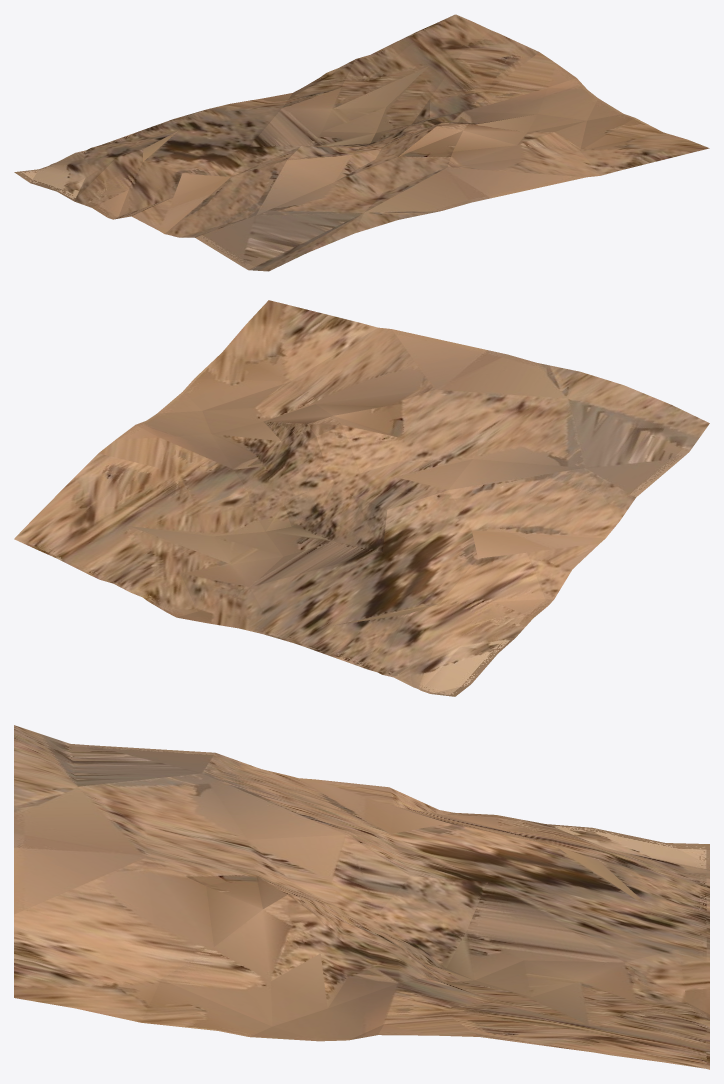
3 views of the same model, one above another, from view 1: azimuth 30°, elevation 25°; view 2: azimuth 150°, elevation 25°; view 3: azimuth 270°, elevation 25° (orthographic). The views are drawn at different scales.
Bounding box in the file's own units: 2.09 × 0.4989 × 2.09.
Materials: 2 (2 with a texture image).
